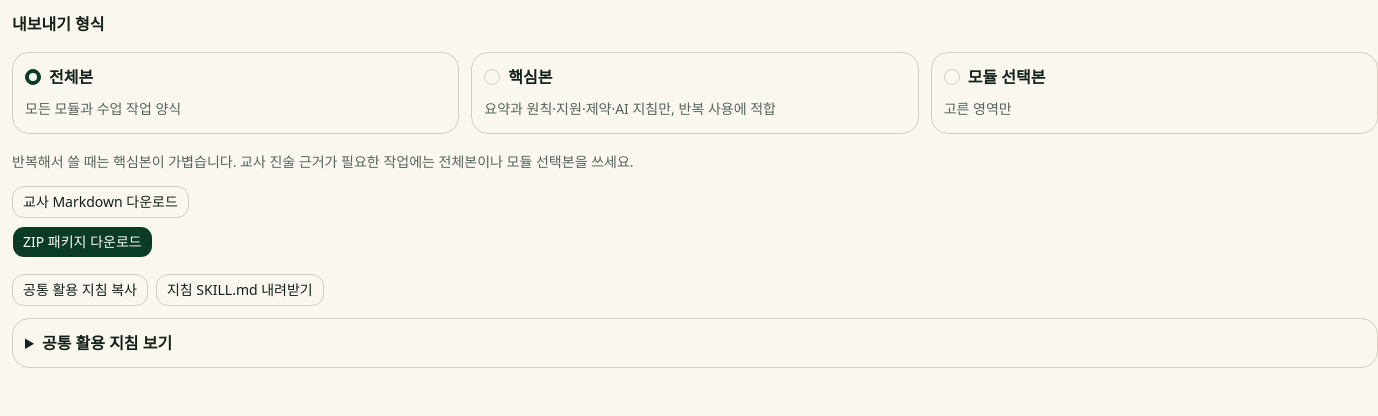
Test case: does not record a failed Markdown download
Click the button "교사 Markdown 다운로드": (100, 202) x1=12 y1=186 x2=189 y2=218
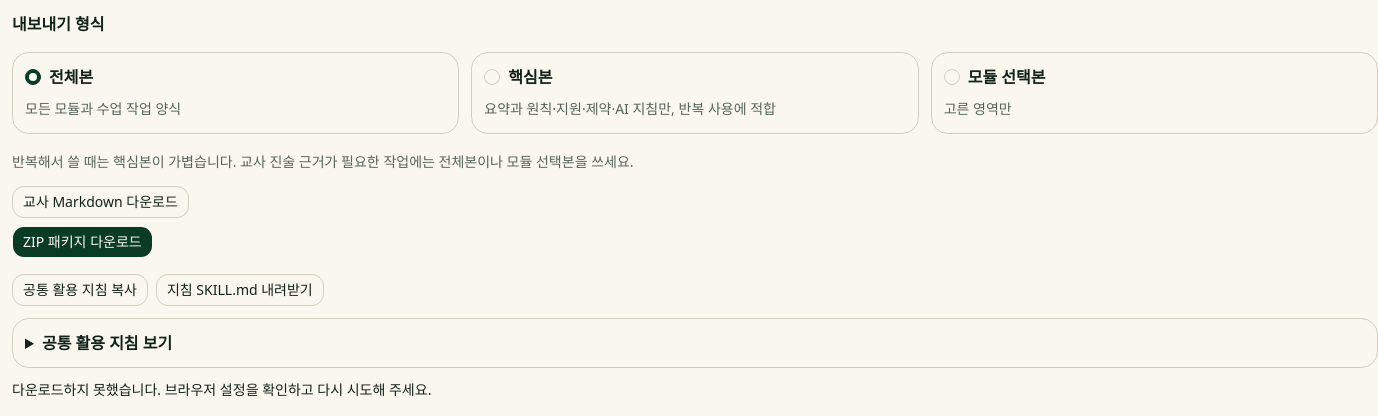
Expected: the message shows "다운로드하지 못했습니다.", x1=12 y1=380 x2=431 y2=399
